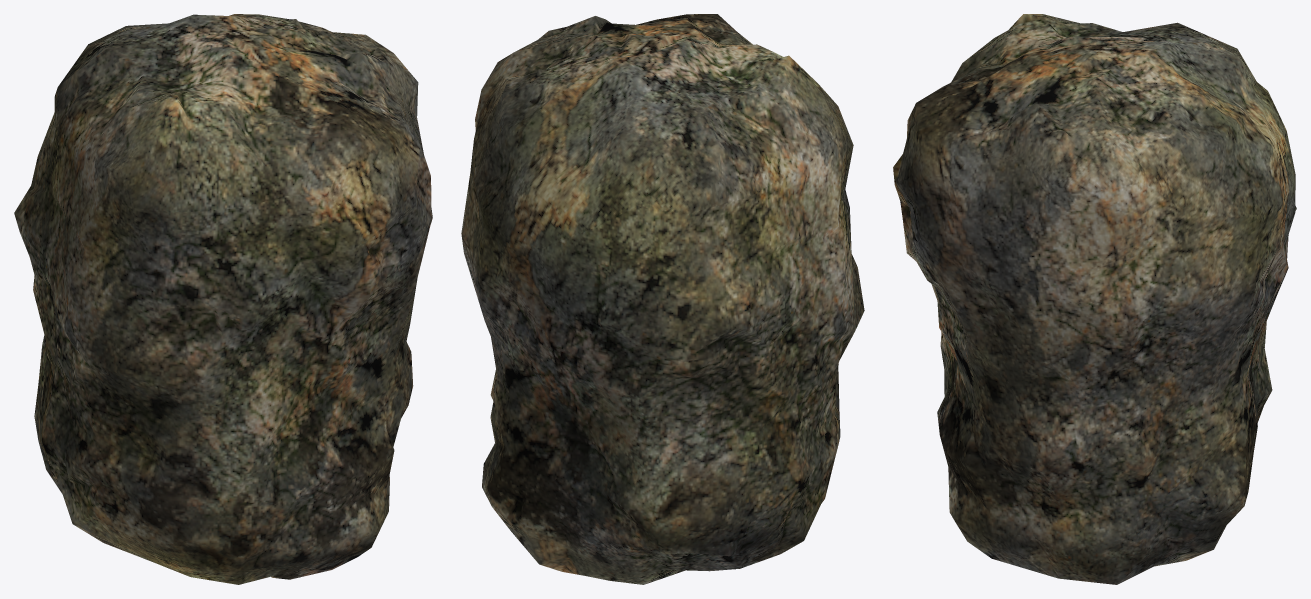
File: Rock04.fbx
3 views of the same model, side by side, from view 1: azimuth 30°, elevation 25°; view 2: azimuth 150°, elevation 25°; view 3: azimuth 270°, elevation 25° (orthographic). The views are drawn at different scales.
Parts seen in each view (by area): view 1: CoralRock4; view 2: CoralRock4; view 3: CoralRock4.
Part boxes in pixels (left/top/right/bottom): CoralRock4: left=14, top=14, right=432, bottom=584; CoralRock4: left=461, top=14, right=864, bottom=584; CoralRock4: left=893, top=14, right=1296, bottom=584.
Bounding box in the file's own units: 120 × 174 × 125.
